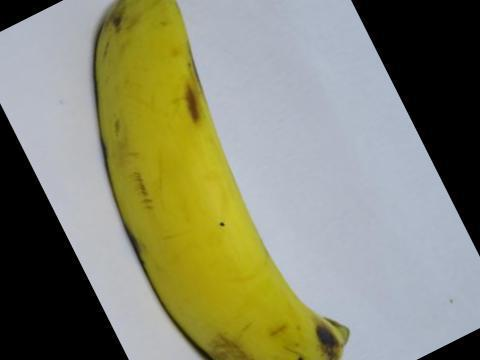freshripe: (76, 0, 370, 359)
